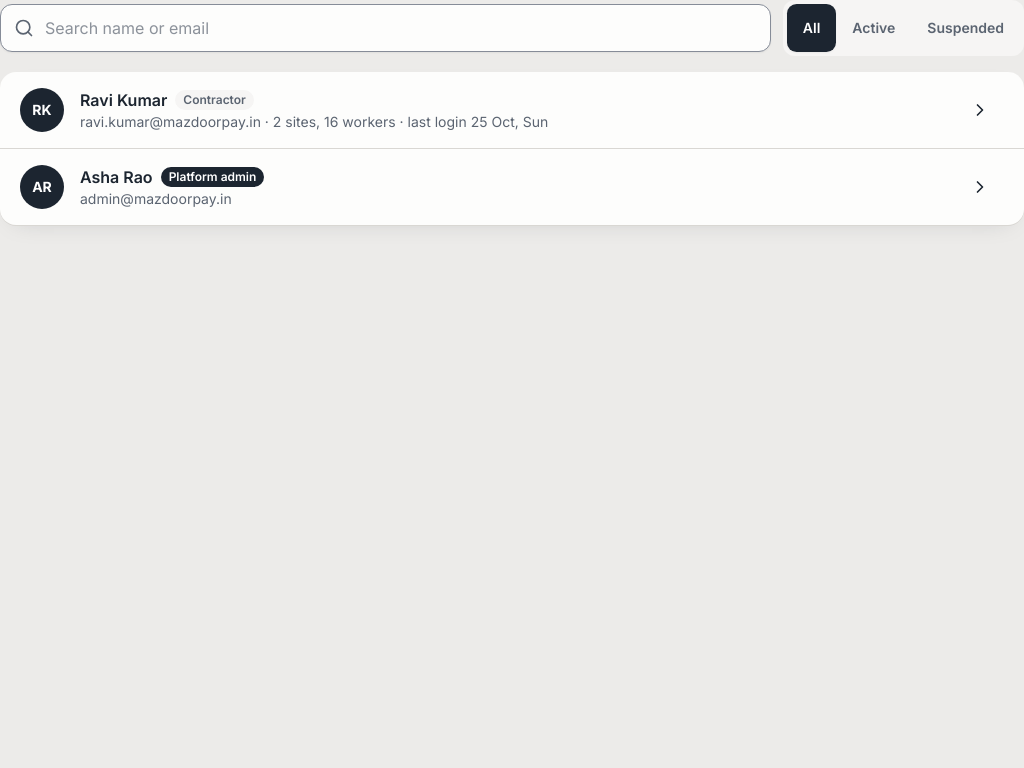
Admin users › searches, opens a contractor read-only and suspends with a reason
In the search field labelled "Search name or email": (385, 28) [0, 4, 771, 52], type "ravi"
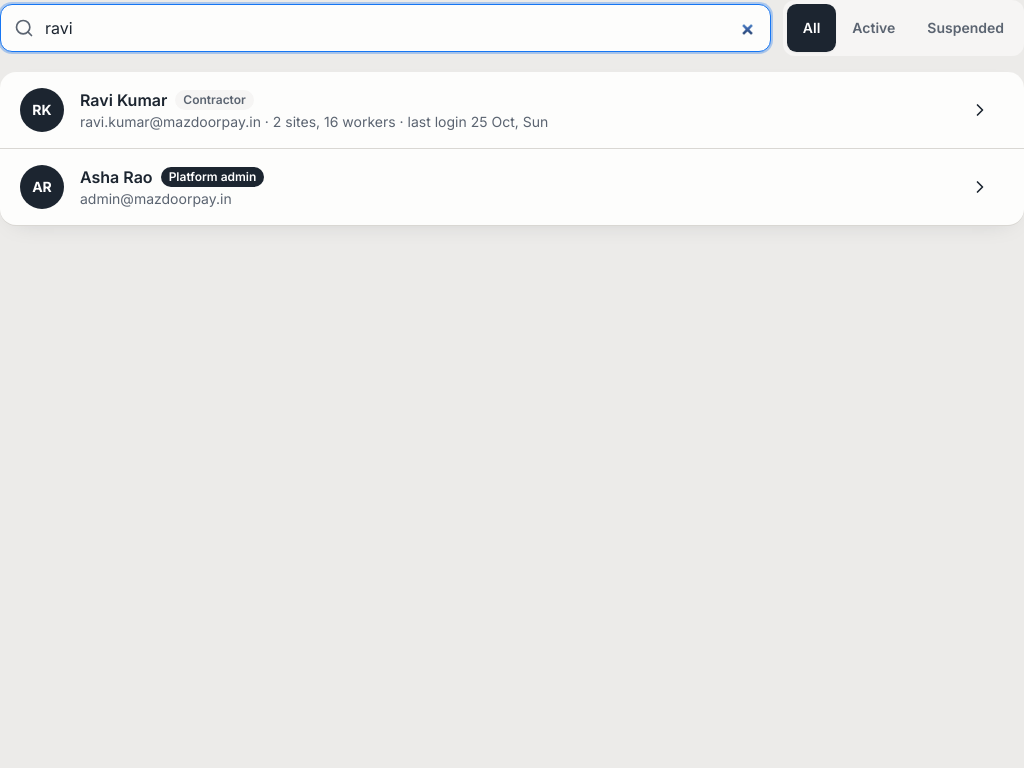
Click the button named "View Ravi Kumar": (980, 110) [956, 86, 1004, 134]
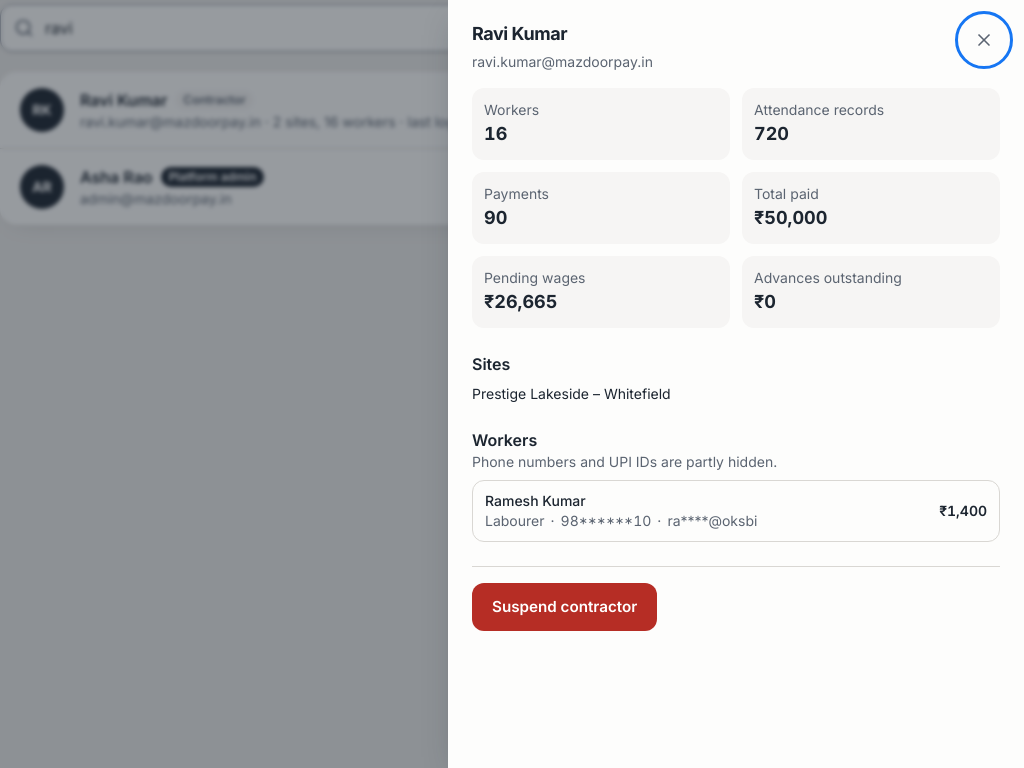
Result: the text "₹26,665" is shown at [484, 291, 557, 312]
Result: the text "98******10" is shown at [560, 511, 651, 531]
Click the button "Suspend contractor": (565, 607) [472, 583, 657, 631]
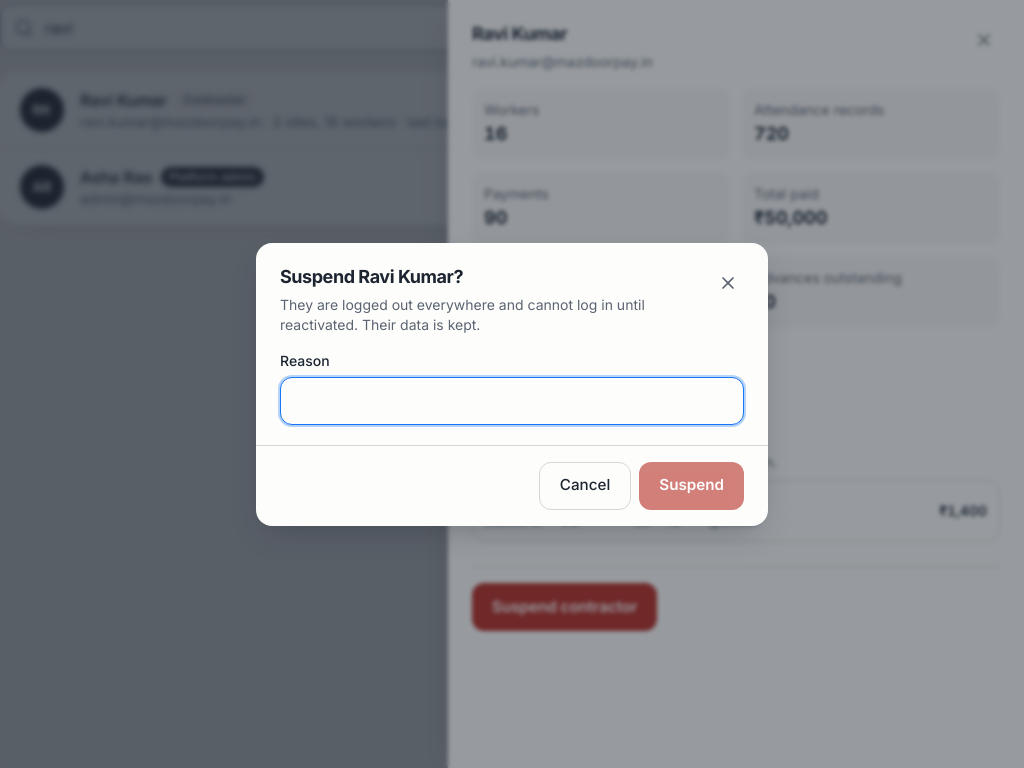
Result: the button "Suspend" is disabled at [639, 462, 744, 510]
In the field labelled "Reason": (512, 400) [280, 376, 744, 424], type "Fake worker entries reported"
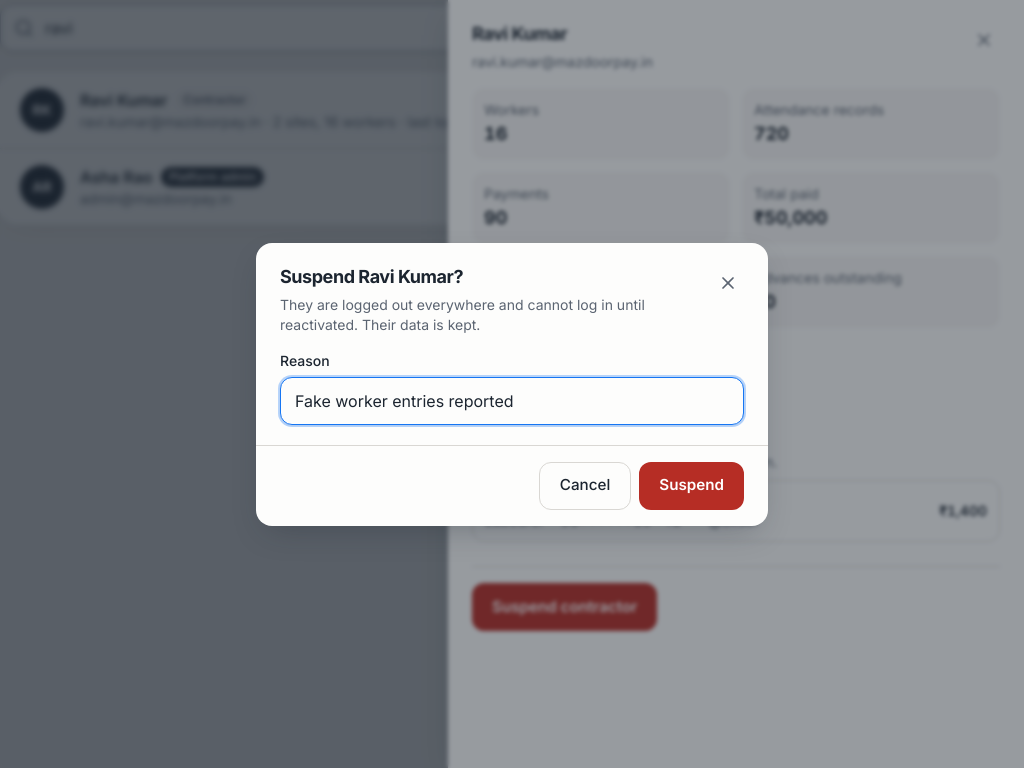
Click the button "Suspend": (692, 486) [639, 462, 744, 510]
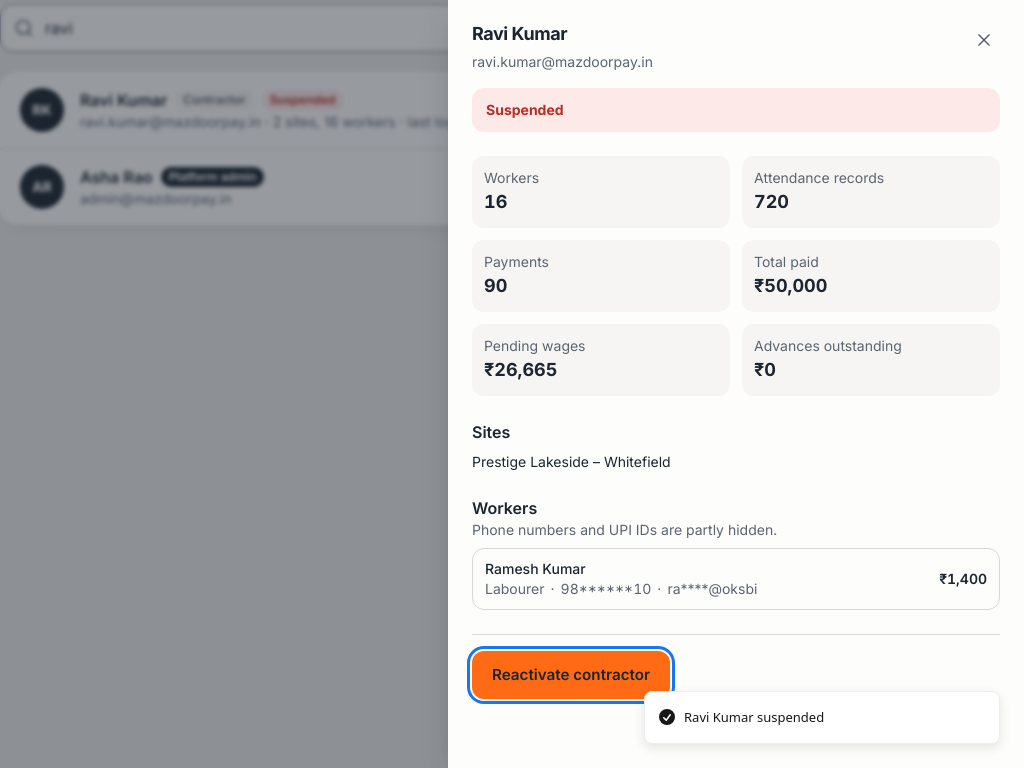
Result: the 1st text "Suspended" is shown at [262, 90, 344, 110]
